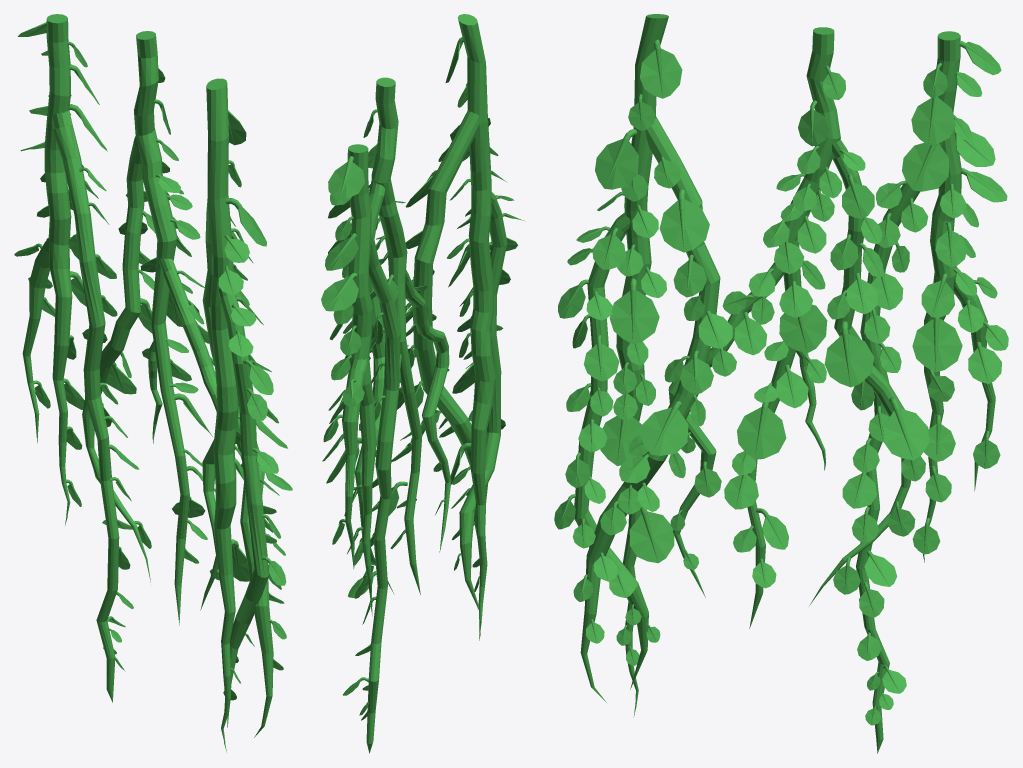
Rendered from Ranking plant by Jakob Hippe - 2q-hEEe3Njb.glb.
The picture shows the model from 3 angles, left to right: view 1: azimuth 30°, elevation 25°; view 2: azimuth 150°, elevation 25°; view 3: azimuth 270°, elevation 25°; orthographic projection. The views are drawn at different scales.
Parts seen in each view (by area): view 1: Node; view 2: Node; view 3: Node.
Part boxes in pixels (bbox=[...]): Node: bbox=[14, 14, 292, 752]; Node: bbox=[321, 14, 525, 753]; Node: bbox=[554, 14, 1008, 753].
Bounding box in the file's own units: 1.32 × 7.47 × 4.16.
